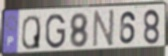6: (119, 10, 137, 46)
8: (68, 12, 90, 49), (143, 8, 161, 46)
G: (44, 13, 66, 51)
N: (91, 8, 116, 49)
Q: (20, 14, 41, 51)
